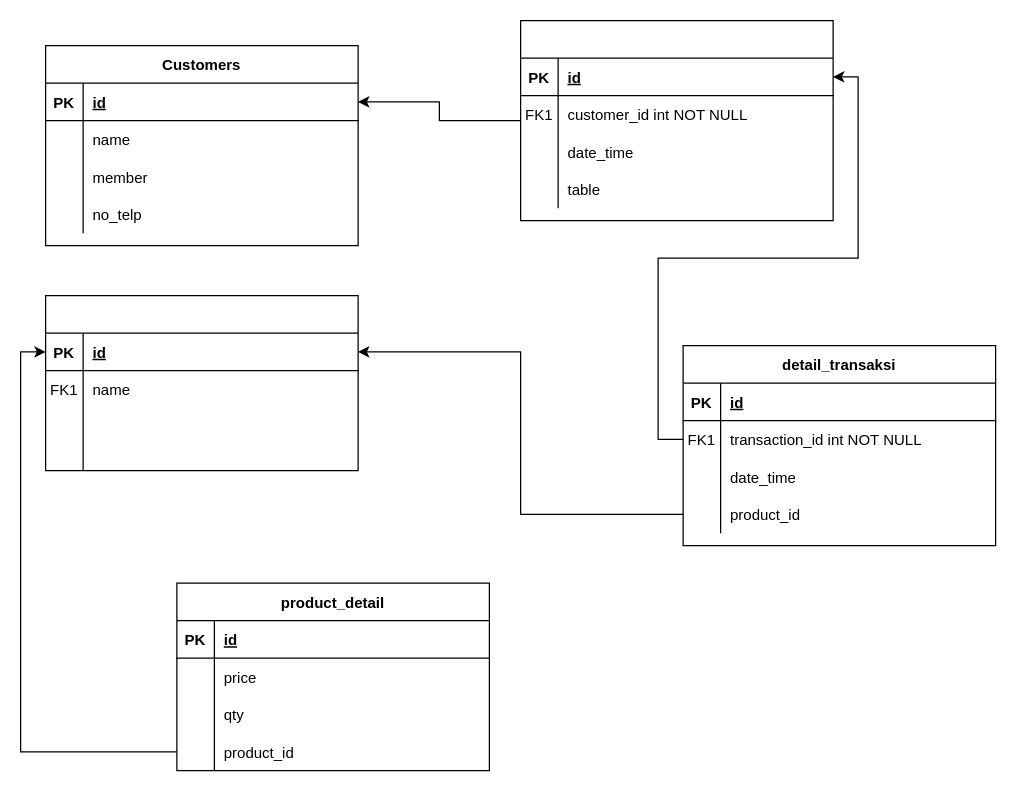
This 1016x791 diagram has some shape labels left out. Each missing label, with the box of its shape:
product: (44, 294, 358, 471)
transaksi: (519, 19, 833, 221)
